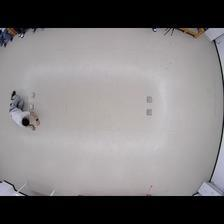fall: (6, 89, 40, 131)
